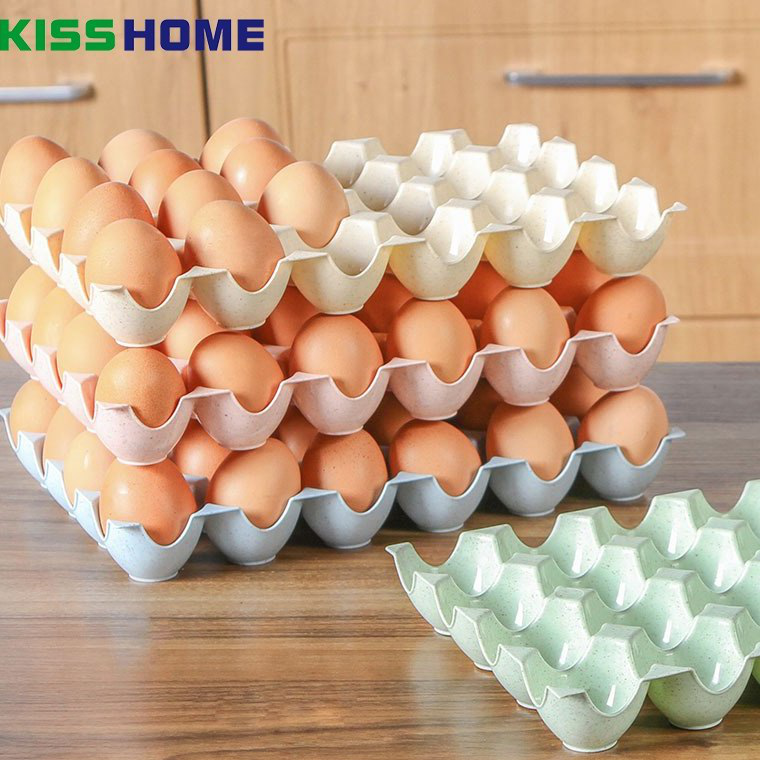egg: (5, 373, 683, 541), (5, 262, 683, 419), (1, 114, 358, 304)
